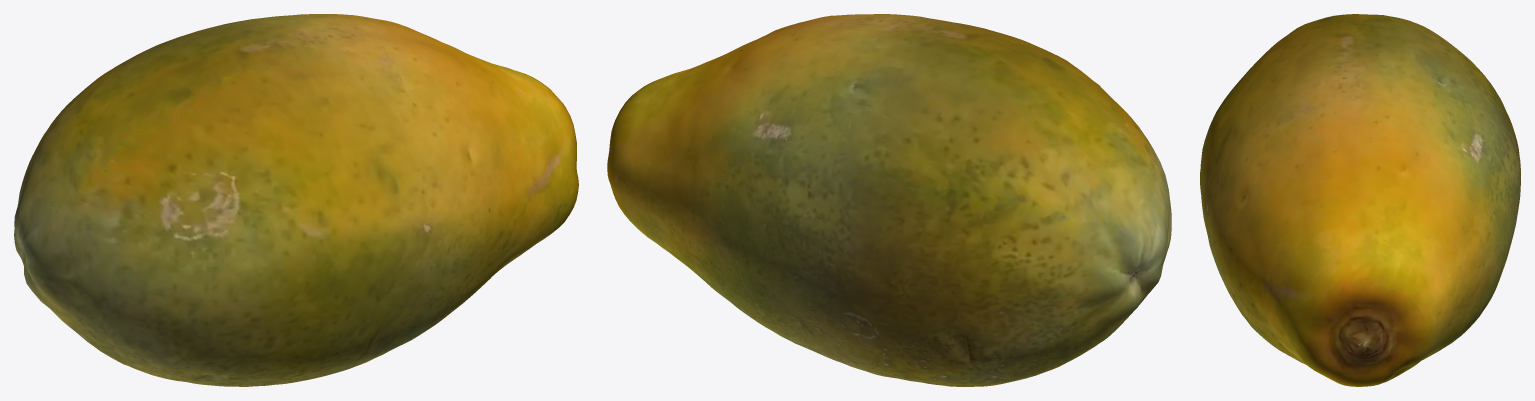
The model's file is papaya.glb.
3 views of the same model, side by side, from view 1: azimuth 30°, elevation 25°; view 2: azimuth 150°, elevation 25°; view 3: azimuth 270°, elevation 25° (orthographic). The views are drawn at different scales.
Parts seen in each view (by area): view 1: Papaya (Photoscanned); view 2: Papaya (Photoscanned); view 3: Papaya (Photoscanned).
Boxes of the visible parts, x1,y1,x2,y2 form: Papaya (Photoscanned): [14, 14, 578, 386]; Papaya (Photoscanned): [607, 14, 1171, 386]; Papaya (Photoscanned): [1200, 14, 1520, 386].
Size of the model in its own units: 0.1514 by 0.0881 by 0.0896.
1 material, 1 textured.
